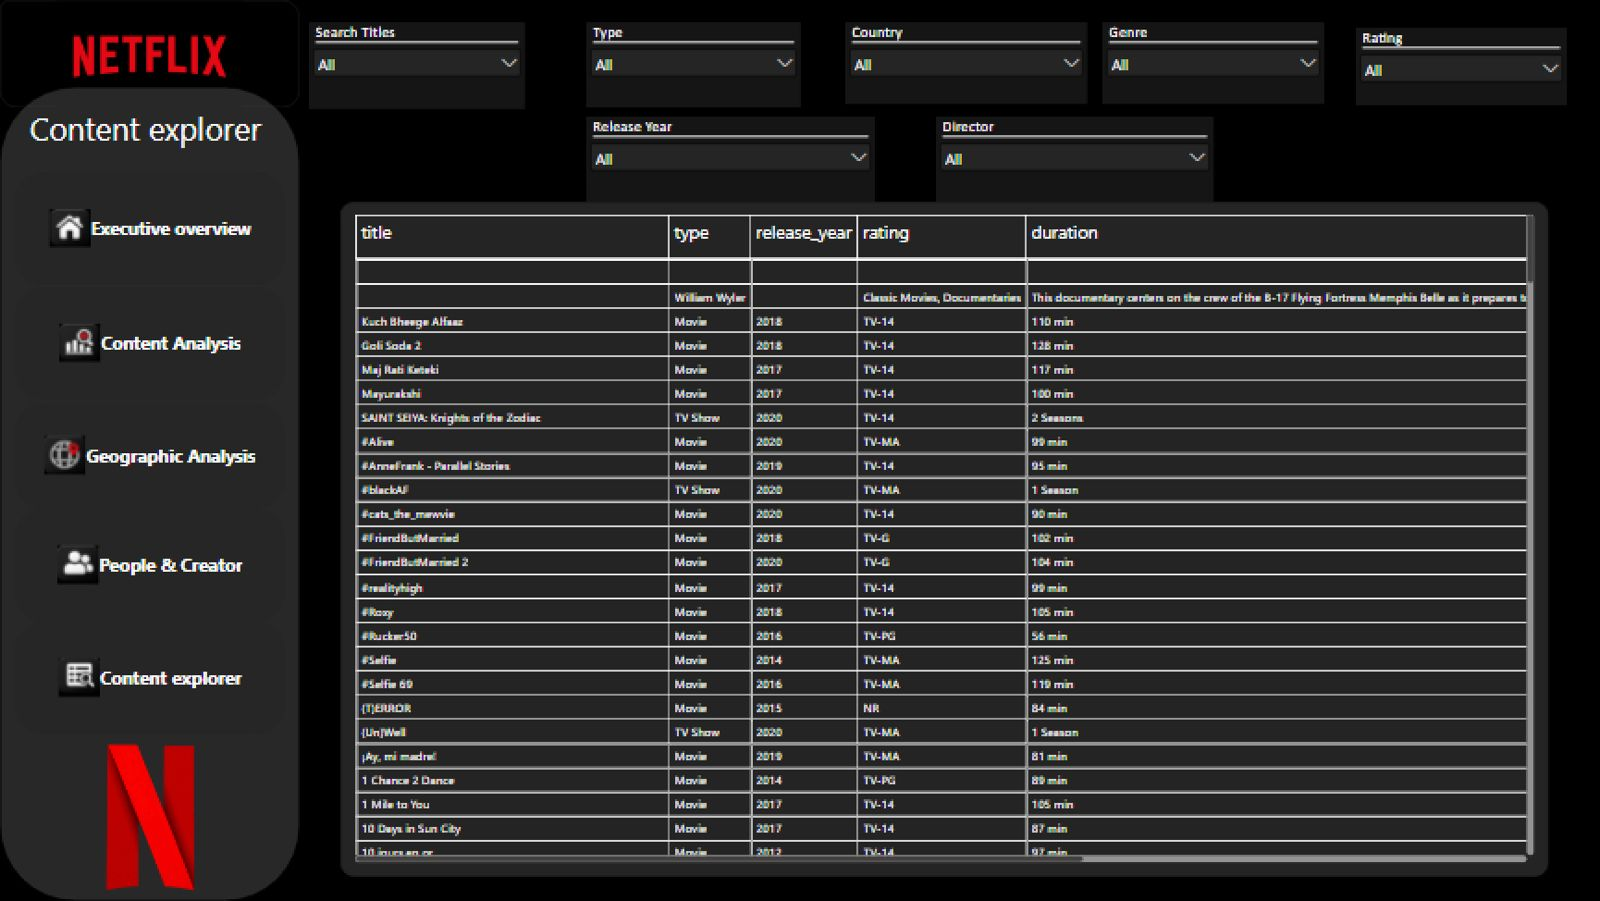

The page's visual inventory and layout, read from the dashboard file:
{"tool":"powerbi","page":{"name":"Content explorer","canvas":[1920,1080],"ordinal":4},"visuals":[{"type":"image","box":[0,0,359.2,128.6],"z":0},{"type":"actionButton","box":[17.7,206.2,323.7,135.2],"z":0,"group":"g1"},{"type":"shape","box":[0,104.2,359.2,975.5],"z":1000},{"type":"actionButton","box":[17.7,343.7,323.7,135.2],"z":1000,"group":"g1"},{"type":"group","id":"g1","title":"Group 1","box":[17.7,206.2,323.7,674],"z":2000},{"type":"actionButton","box":[17.7,483.3,323.7,126.4],"z":2000,"group":"g1"},{"type":"image","box":[0,882.6,358.1,196.4],"z":2001},{"type":"textbox","box":[35.5,128.6,288.2,62.1],"z":2002},{"type":"slicer","fields":{"Values":["netflix_titles.type"]},"box":[702.8,26.6,257.2,102],"z":2003},{"type":"slicer","fields":{"Values":["Dimcountry.Country"]},"box":[1013.2,26.6,290.4,97.6],"z":2004},{"type":"slicer","fields":{"Values":["DimGenre.Genre"]},"box":[1321.4,26.6,266.1,97.6],"z":2005},{"type":"slicer","fields":{"Values":["netflix_titles.rating"]},"box":[1625.1,33.3,252.7,93.1],"z":2006},{"type":"slicer","fields":{"Values":["netflix_titles.release_year"]},"box":[702.8,139.7,345.9,102],"z":2007},{"type":"slicer","fields":{"Values":["DimDirector.Director"]},"box":[1121.8,139.7,332.6,102],"z":2008},{"type":"slicer","fields":{"Values":["netflix_titles.title"]},"box":[370.3,26.6,259.4,104.2],"z":2009},{"type":"tableEx","fields":{"Values":["netflix_titles.title","netflix_titles.type","netflix_titles.release_year","netflix_titles.rating","netflix_titles.duration","netflix_titles.country","netflix_titles.director"]},"box":[407.9,241.7,1447.8,809.2],"z":2010},{"type":"actionButton","box":[17.7,609.7,323.7,135.2],"z":3000,"group":"g1"},{"type":"actionButton","box":[17.7,745,323.7,135.2],"z":4000,"group":"g1"}]}

Visuals, with their boxes on the page's 1920x1080 design canvas (x1, y1, x2, y2). These are canvas units, not pixel positions in the 1600x901 screenshot, which may show the page scaled, cropped or inside an application window:
image: (left=0, top=0, right=359, bottom=129)
actionButton: (left=18, top=206, right=341, bottom=341)
shape: (left=0, top=104, right=359, bottom=1080)
actionButton: (left=18, top=344, right=341, bottom=479)
"Group 1" group: (left=18, top=206, right=341, bottom=880)
actionButton: (left=18, top=483, right=341, bottom=610)
image: (left=0, top=883, right=358, bottom=1079)
textbox: (left=36, top=129, right=324, bottom=191)
slicer - netflix_titles.type: (left=703, top=27, right=960, bottom=129)
slicer - Dimcountry.Country: (left=1013, top=27, right=1304, bottom=124)
slicer - DimGenre.Genre: (left=1321, top=27, right=1588, bottom=124)
slicer - netflix_titles.rating: (left=1625, top=33, right=1878, bottom=126)
slicer - netflix_titles.release_year: (left=703, top=140, right=1049, bottom=242)
slicer - DimDirector.Director: (left=1122, top=140, right=1454, bottom=242)
slicer - netflix_titles.title: (left=370, top=27, right=630, bottom=131)
tableEx - netflix_titles.title x netflix_titles.type: (left=408, top=242, right=1856, bottom=1051)
actionButton: (left=18, top=610, right=341, bottom=745)
actionButton: (left=18, top=745, right=341, bottom=880)
